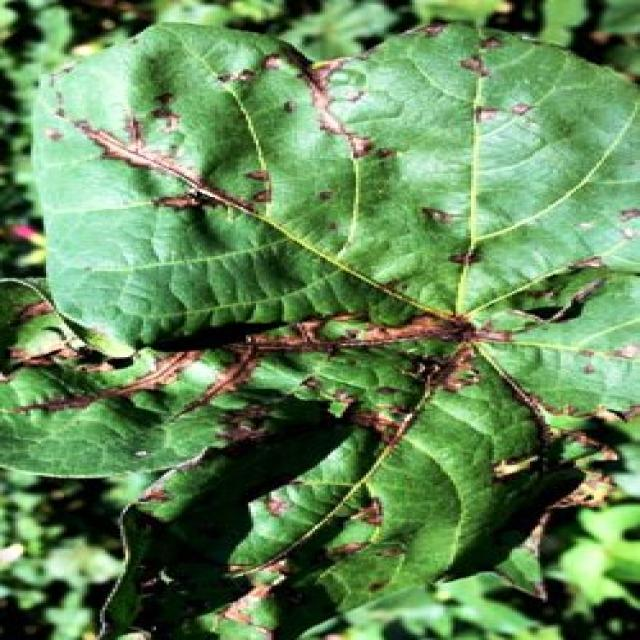Bacterial Blight: (74, 61, 482, 304), (88, 327, 605, 513)
